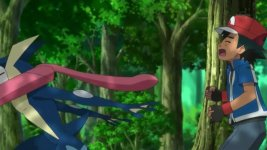greninja: (1, 32, 159, 150)
